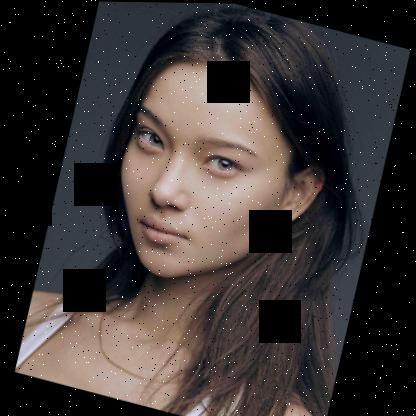Female: (94, 36, 348, 312)
